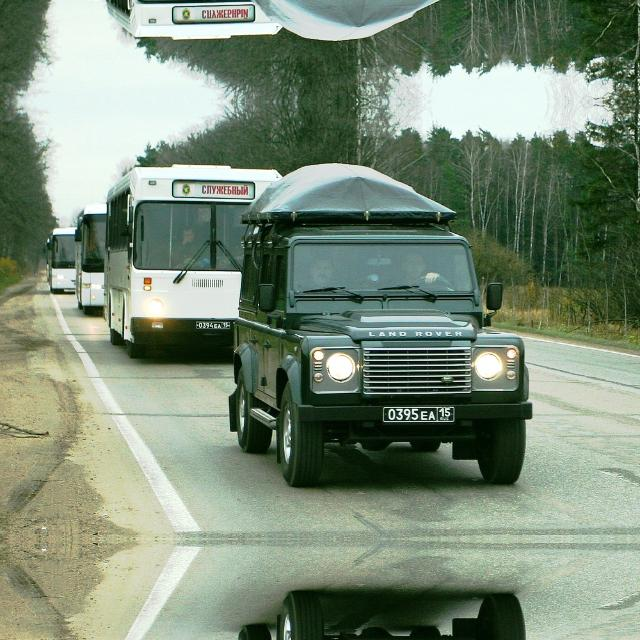military: (378, 397, 458, 427), (193, 313, 235, 333)
